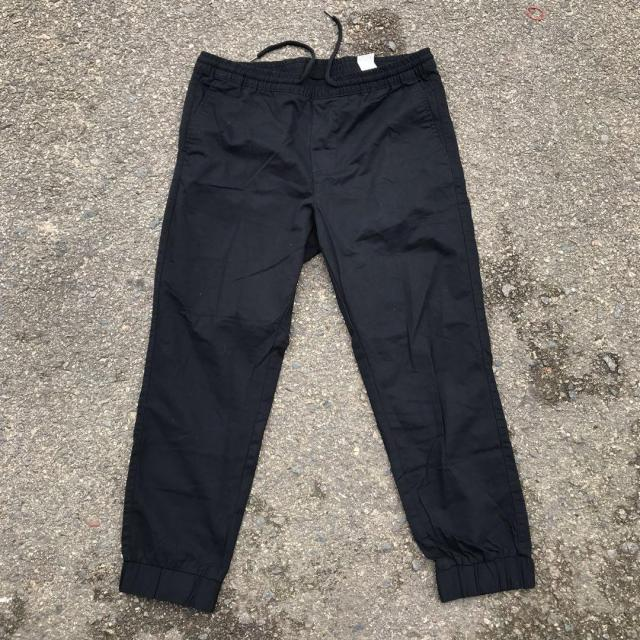long-pants: (115, 48, 542, 611)
